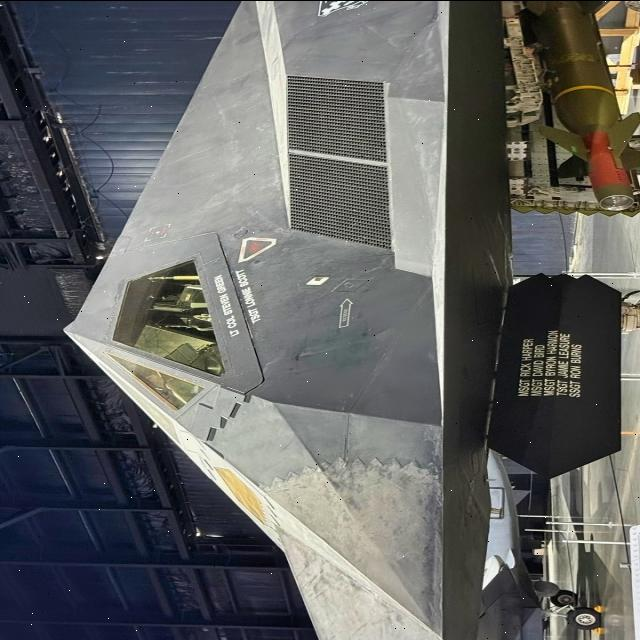F117: (29, 0, 640, 640)
